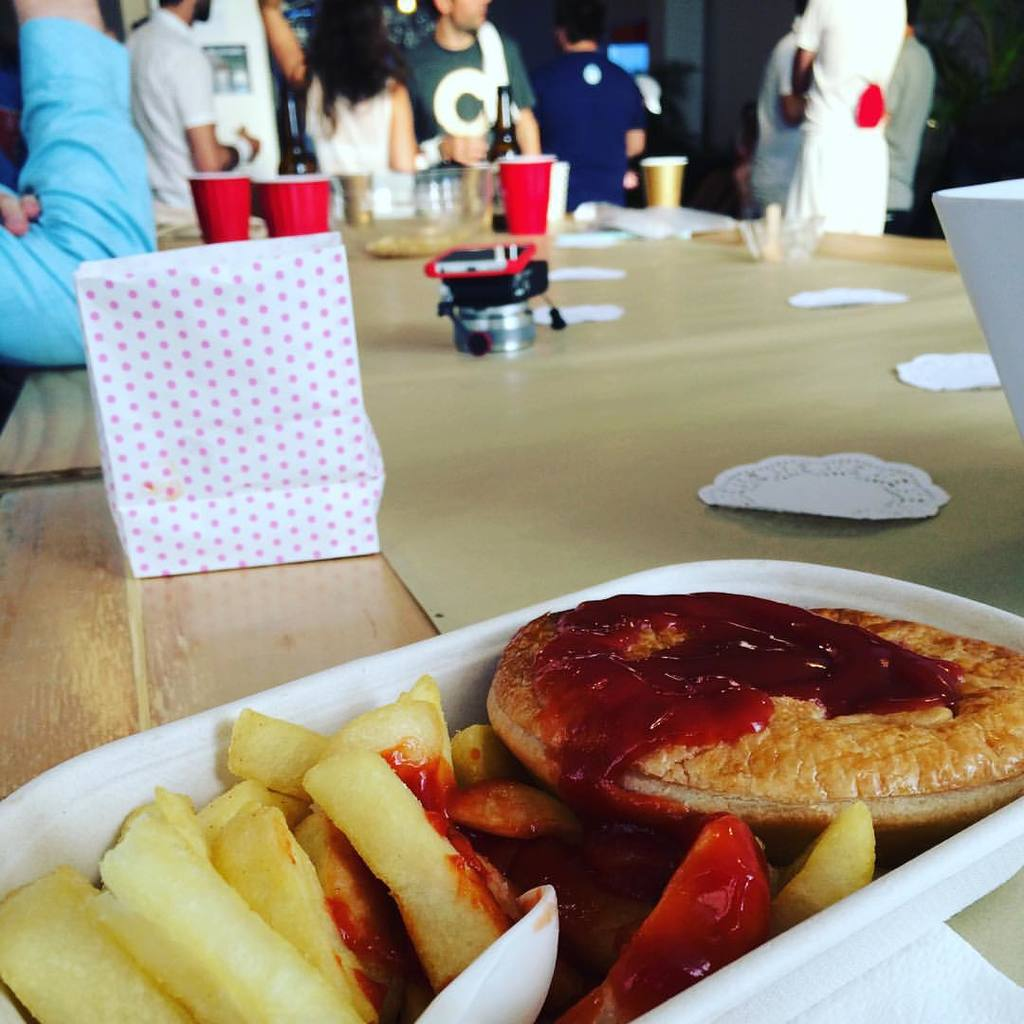French fries: (22, 677, 585, 1016)
